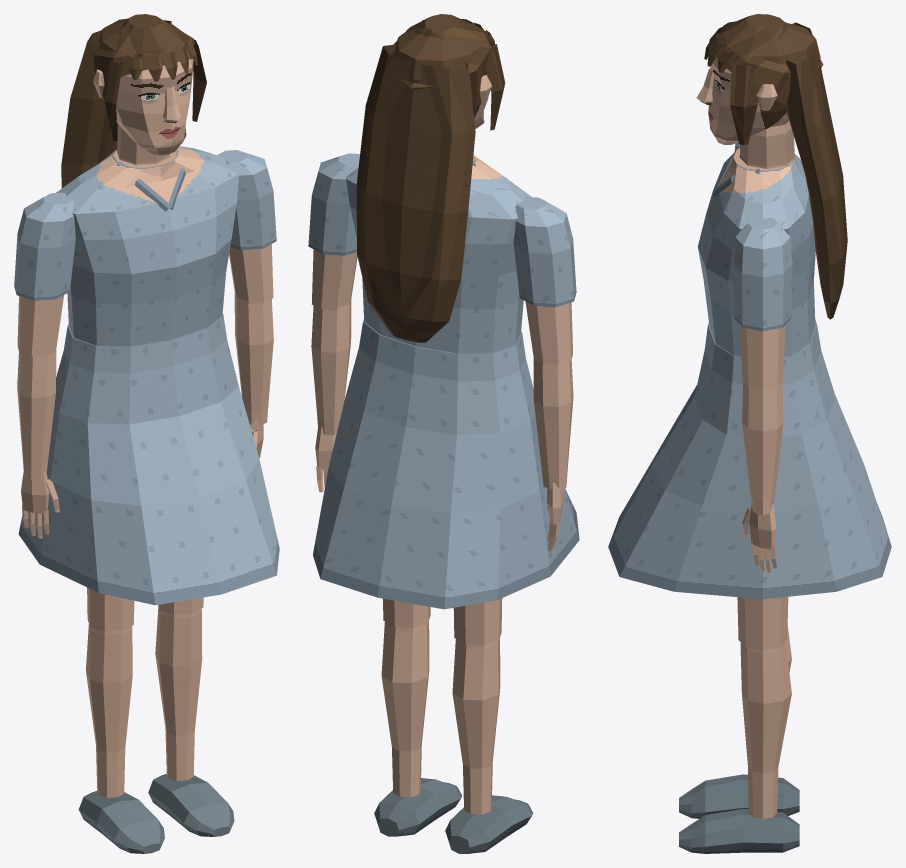
Rendered from patient_female.glb.
The picture shows the model from 3 angles, left to right: view 1: azimuth 30°, elevation 25°; view 2: azimuth 150°, elevation 25°; view 3: azimuth 270°, elevation 25°; orthographic projection. The views are drawn at different scales.
Visible parts, largest first — view 1: gown_skirt, gown_torso, upper_arm_r, calf_r, calf_l, upper_arm_l, head_skull, hair_long_back, lower_arm_r, lower_arm_l, shoe_r, shoe_l (+7 smaller); view 2: gown_skirt, hair_long_back, gown_torso, upper_arm_r, calf_l, calf_r, upper_arm_l, lower_arm_r, lower_arm_l, shoe_r, shoe_l, head_skull (+6 smaller); view 3: gown_skirt, gown_torso, hair_long_back, upper_arm_l, calf_l, shoe_l, lower_arm_l, head_skull, hair_cap, shoe_r, thigh_l, neck_column (+2 smaller).
Boxes of the visible parts, box(x1,y1,x2,y2) form: gown_skirt: box(18, 313, 279, 605); gown_torso: box(56, 146, 238, 346); upper_arm_r: box(14, 192, 75, 356); calf_r: box(86, 624, 132, 797); calf_l: box(155, 607, 202, 780); upper_arm_l: box(217, 150, 276, 303); head_skull: box(98, 18, 193, 155); hair_long_back: box(61, 20, 171, 188); lower_arm_r: box(17, 350, 56, 479); lower_arm_l: box(234, 292, 273, 425); shoe_r: box(78, 791, 164, 853); shoe_l: box(148, 774, 234, 836); gown_skirt: box(313, 320, 579, 609); hair_long_back: box(356, 44, 475, 342); gown_torso: box(346, 155, 531, 353); upper_arm_r: box(513, 197, 576, 364); calf_l: box(381, 621, 429, 797); calf_r: box(452, 638, 500, 814); upper_arm_l: box(308, 153, 359, 310); lower_arm_r: box(533, 359, 573, 489); lower_arm_l: box(311, 299, 351, 435); shoe_r: box(445, 795, 532, 853); shoe_l: box(374, 778, 462, 836); head_skull: box(394, 27, 488, 128); gown_skirt: box(608, 320, 891, 599); gown_torso: box(697, 147, 815, 356); hair_long_back: box(786, 22, 847, 319); upper_arm_l: box(733, 217, 792, 389); calf_l: box(740, 642, 791, 818); shoe_l: box(679, 809, 799, 853); lower_arm_l: box(742, 382, 783, 515); head_skull: box(708, 22, 820, 144); hair_cap: box(716, 14, 823, 106); shoe_r: box(679, 774, 799, 818); thigh_l: box(737, 596, 788, 650); neck_column: box(739, 113, 796, 168).
Size of the model in its own units: 0.5749 by 1.7 by 0.539.
Materials: 1 (1 with a texture image).
